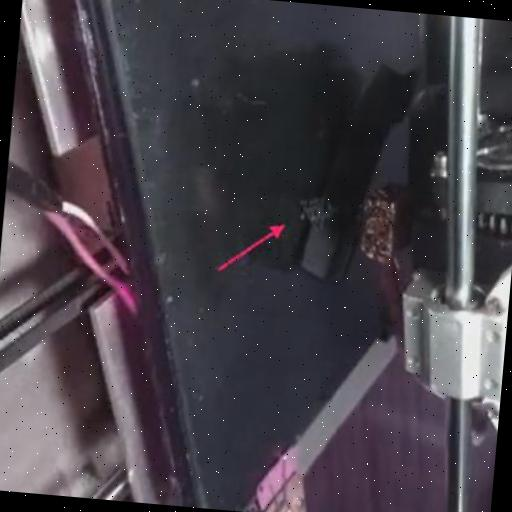spaghetti: (296, 194, 336, 234)
